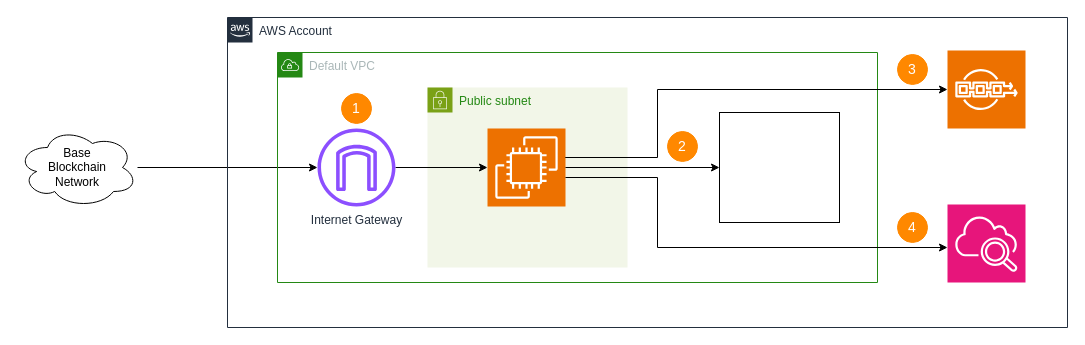
Image size: 1085x345. Some labels were removed from this diagram. The box of each missing label's shape, as (x1, y1, x2, y2) in pixels:
Amazon CloudWatch Scroll Metrics: (946, 204, 1026, 282)
Amazon EC2 Base node: (486, 128, 566, 206)
Ethereum Layer1 RPC Node: (946, 50, 1026, 128)
Self-built and run DApps: (718, 112, 840, 222)
